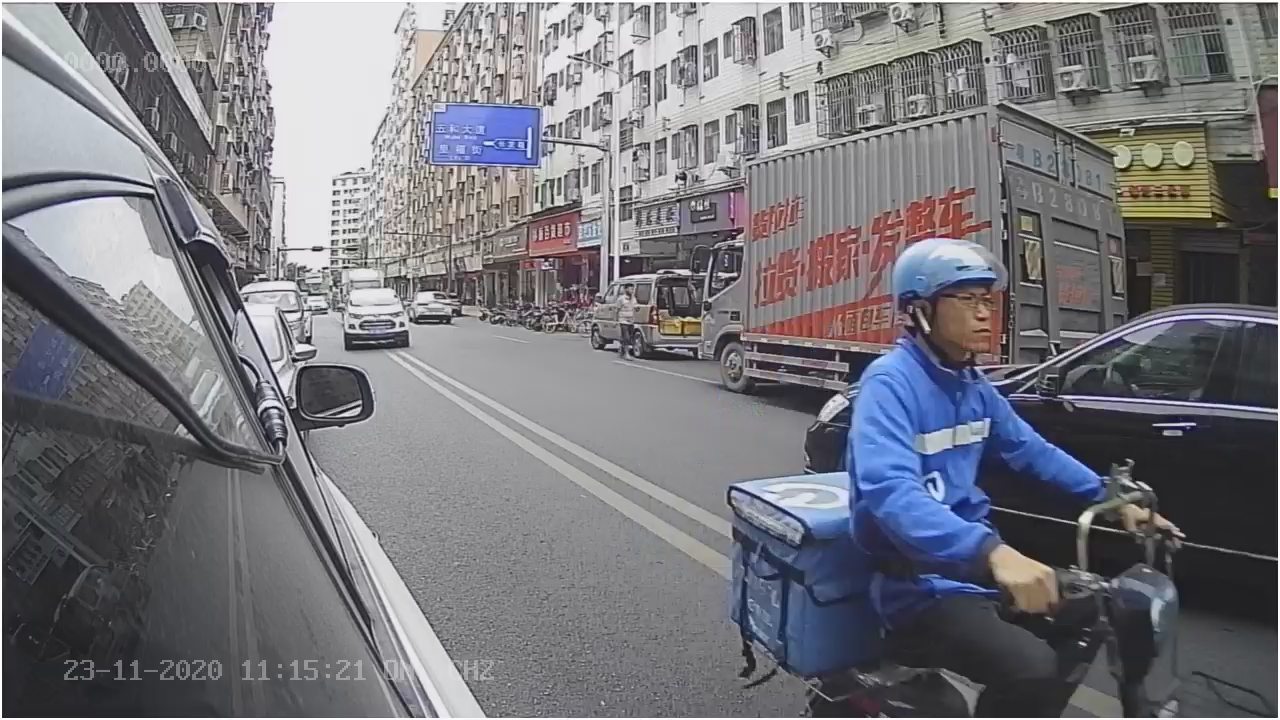person: (836, 234, 1102, 465)
